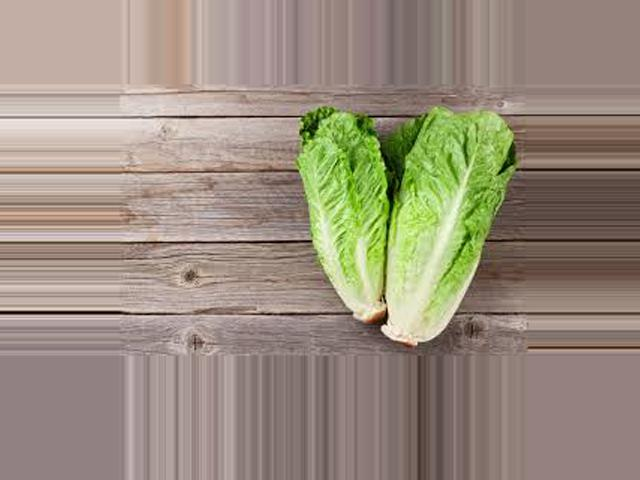lettuce: (380, 99, 520, 354)
